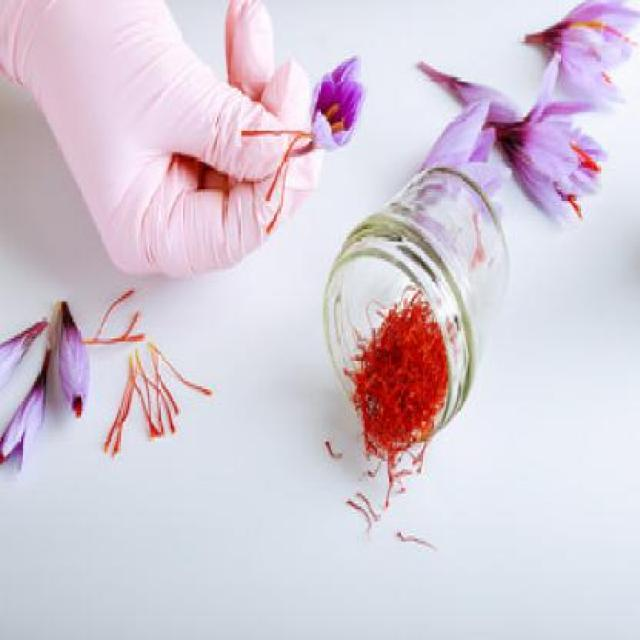Flower: (478, 94, 610, 214), (520, 0, 638, 103), (287, 55, 371, 159), (1, 348, 56, 490), (51, 290, 100, 402)
stigma: (262, 141, 318, 239), (262, 126, 318, 203), (146, 340, 214, 398), (101, 364, 139, 453), (137, 359, 179, 437), (93, 284, 141, 342), (564, 12, 638, 48), (83, 310, 146, 349), (137, 360, 166, 440), (153, 348, 187, 416), (237, 122, 314, 142), (568, 141, 608, 174), (380, 449, 399, 515), (553, 188, 589, 220), (346, 496, 376, 534), (397, 533, 439, 554), (320, 436, 342, 464)
